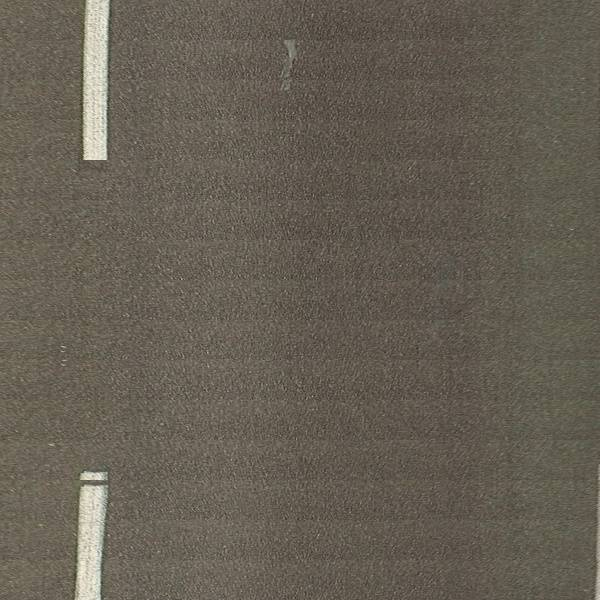road_damage: (275, 34, 304, 94)
